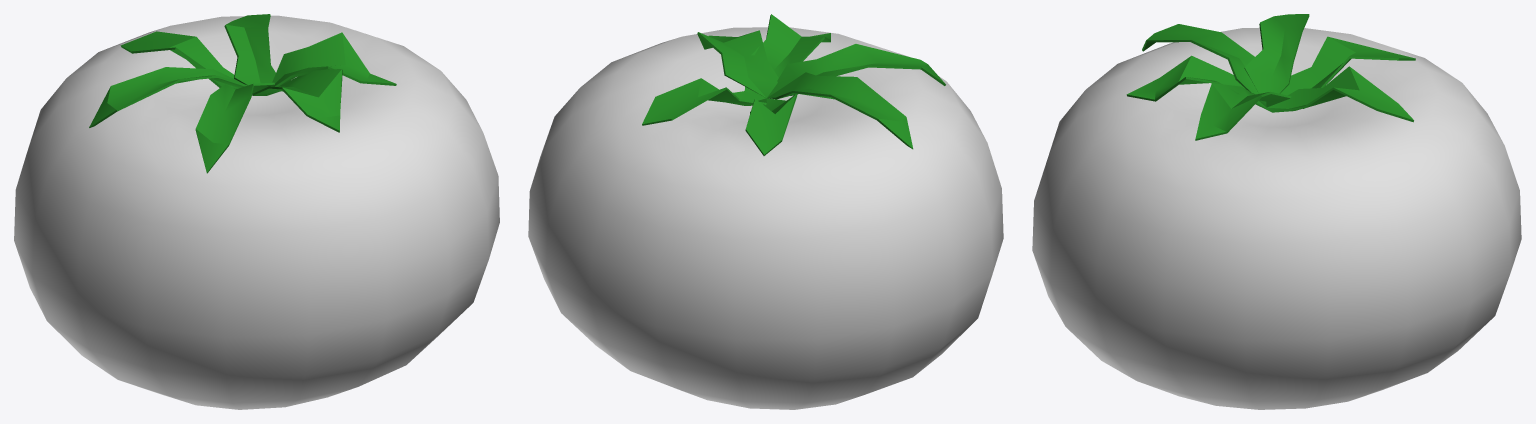
Rendered from tomato.fbx.
3 views of the same model, side by side, from view 1: azimuth 30°, elevation 25°; view 2: azimuth 150°, elevation 25°; view 3: azimuth 270°, elevation 25° (orthographic). The views are drawn at different scales.
Visible parts, largest first — view 1: tomato; view 2: tomato; view 3: tomato.
Part boxes in pixels (x1,y1,x2,y2): tomato: (14,14,499,409); tomato: (528,14,1003,409); tomato: (1032,14,1521,409).
Size of the model in its own units: 500 by 375 by 504.
